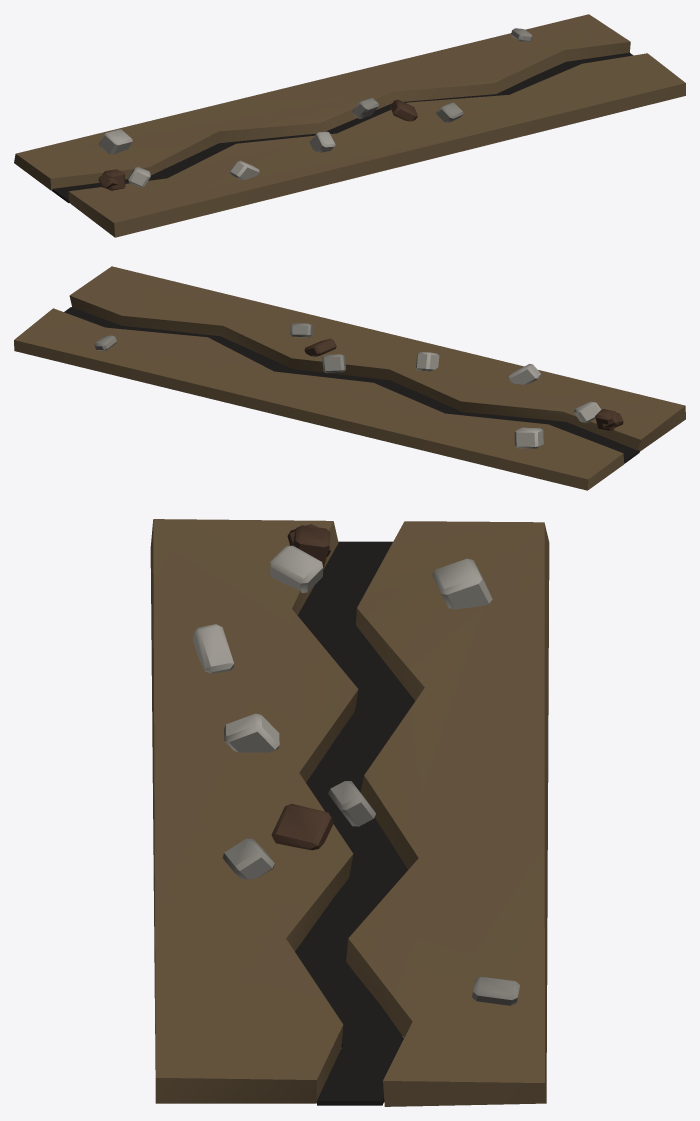
File: 392_fissure_sol.fbx
The picture shows the model from 3 angles, top to bottom: view 1: azimuth 30°, elevation 25°; view 2: azimuth 150°, elevation 25°; view 3: azimuth 270°, elevation 25°; orthographic projection. The views are drawn at different scales.
Parts seen in each view (by area): view 1: Fissure, Rochers; view 2: Fissure, Rochers; view 3: Fissure, Rochers.
Part boxes in pixels (x1,y1,x2,y2): Fissure: (14,14,685,237); Rochers: (98,28,532,190); Fissure: (14,266,685,490); Rochers: (94,323,623,448); Fissure: (150,519,549,1106); Rochers: (192,524,519,1005).
Bounding box in the file's own units: 5.6 × 0.28 × 1.68.
1 material, 1 textured.
